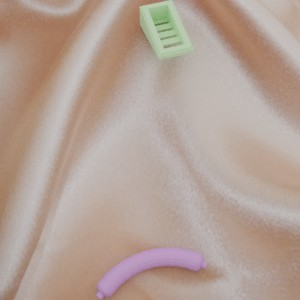lego: (95, 247, 207, 300), (139, 0, 193, 59)
